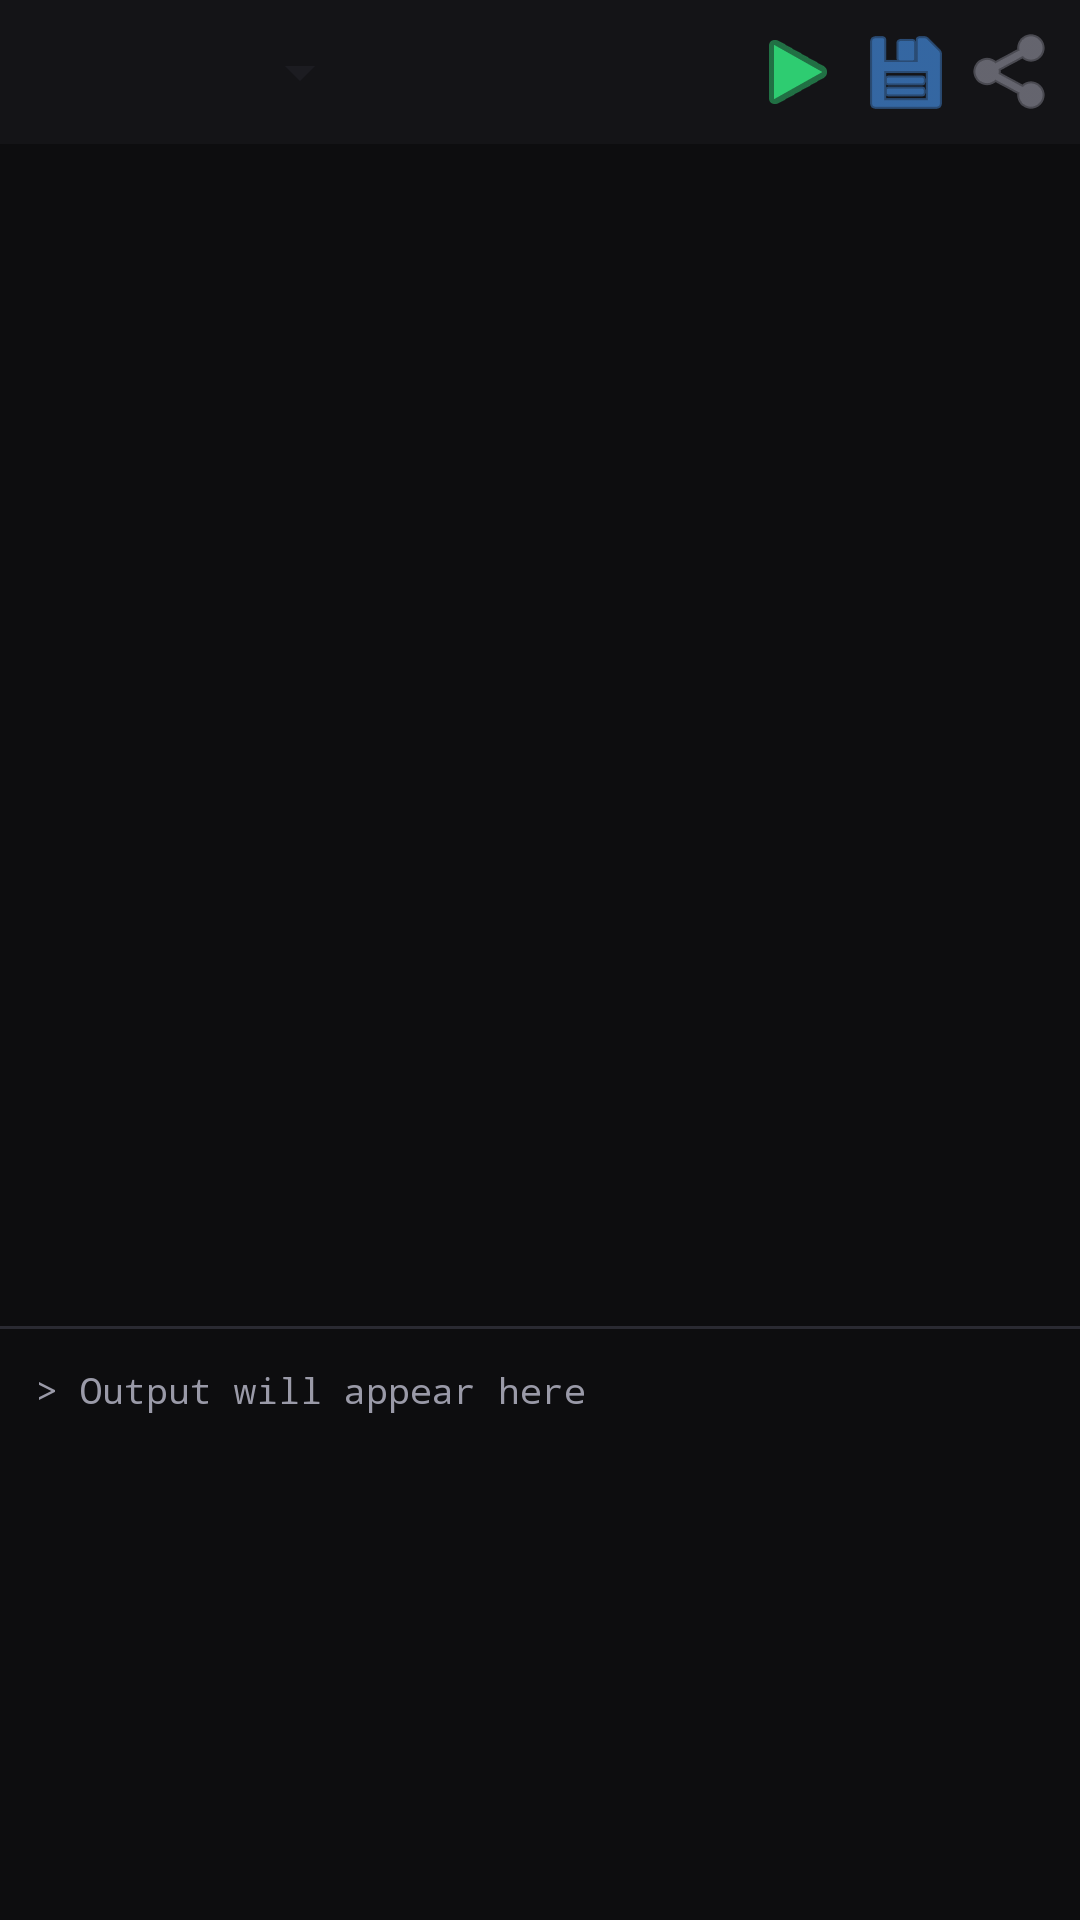

Icons on this 1080px×1920px Android screen, each with its box as (x1, y1, x2, y2):
play: (769, 40, 827, 104)
save: (870, 36, 942, 109)
share: (973, 34, 1045, 109)
